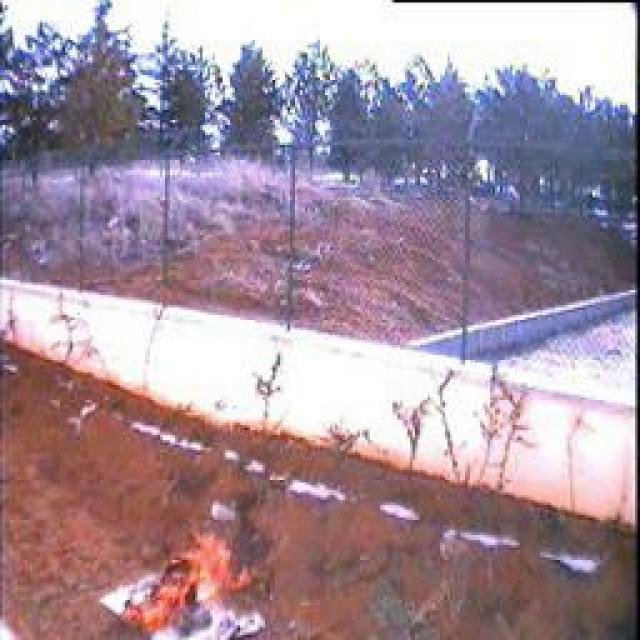Fire: (120, 524, 269, 636)
